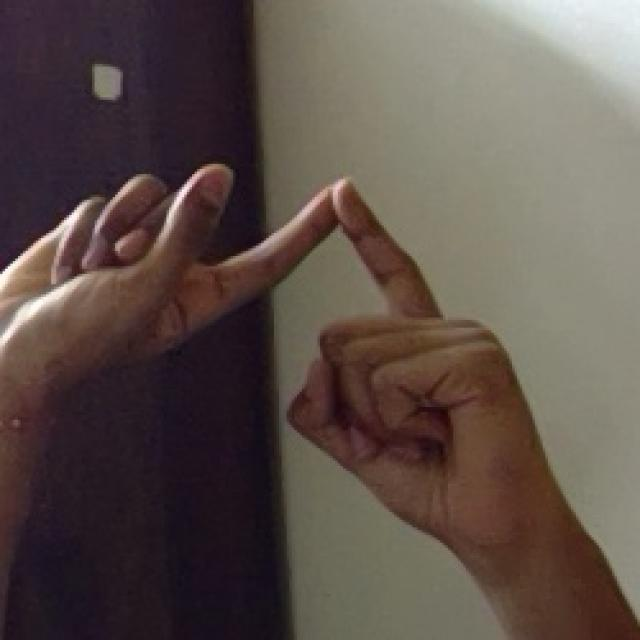Alphabet-E: (0, 164, 640, 640)
